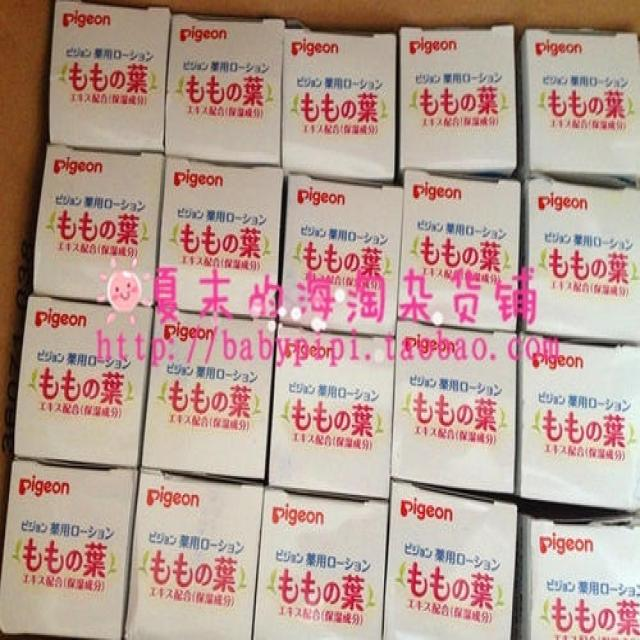box: (15, 297, 154, 469), (0, 461, 135, 637), (123, 471, 265, 638), (140, 310, 276, 482), (269, 323, 397, 500), (514, 335, 639, 510), (34, 145, 166, 306), (393, 320, 516, 492), (253, 487, 391, 638), (157, 158, 284, 321), (385, 480, 516, 638), (280, 175, 404, 336), (398, 172, 521, 330), (520, 181, 639, 343), (165, 9, 284, 167), (49, 1, 173, 152), (516, 30, 638, 183), (400, 27, 518, 179), (282, 21, 395, 179), (512, 514, 639, 638)
